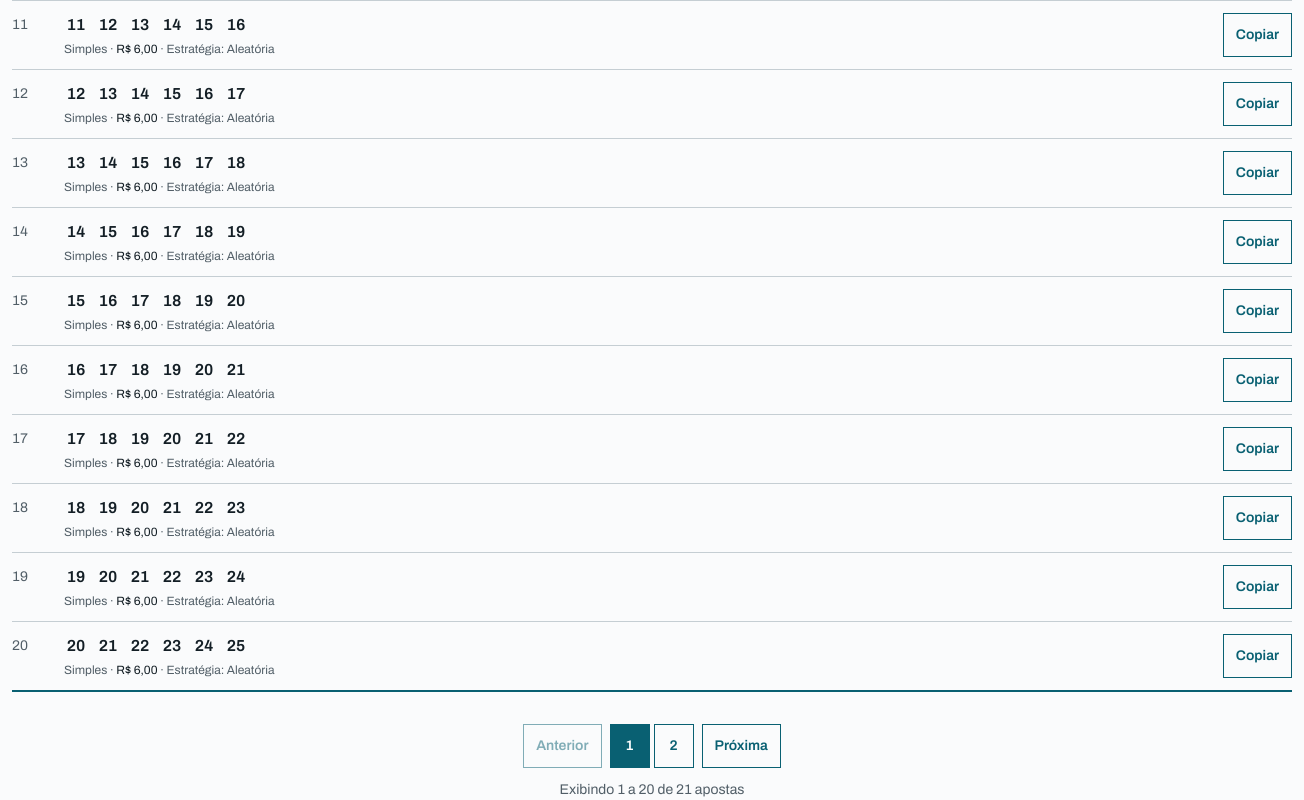
BetList › permite navegar para a página seguinte
(page scrolled)
Click the button "Próxima" at coordinates (741, 746), box [702,724,781,768]
(page scrolled)
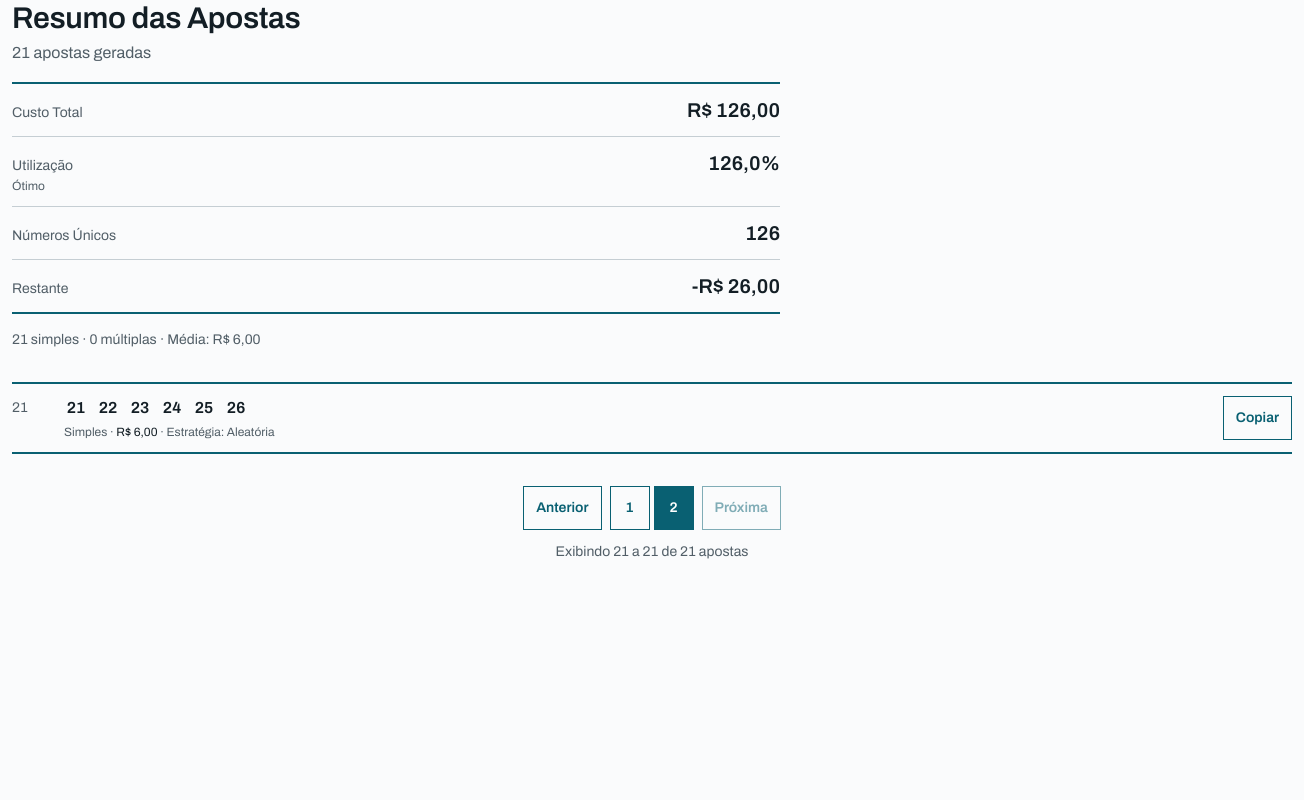
Check: the text "Exibindo 21 a 21 de 21 apostas" is shown, box [556,544,748,559]
